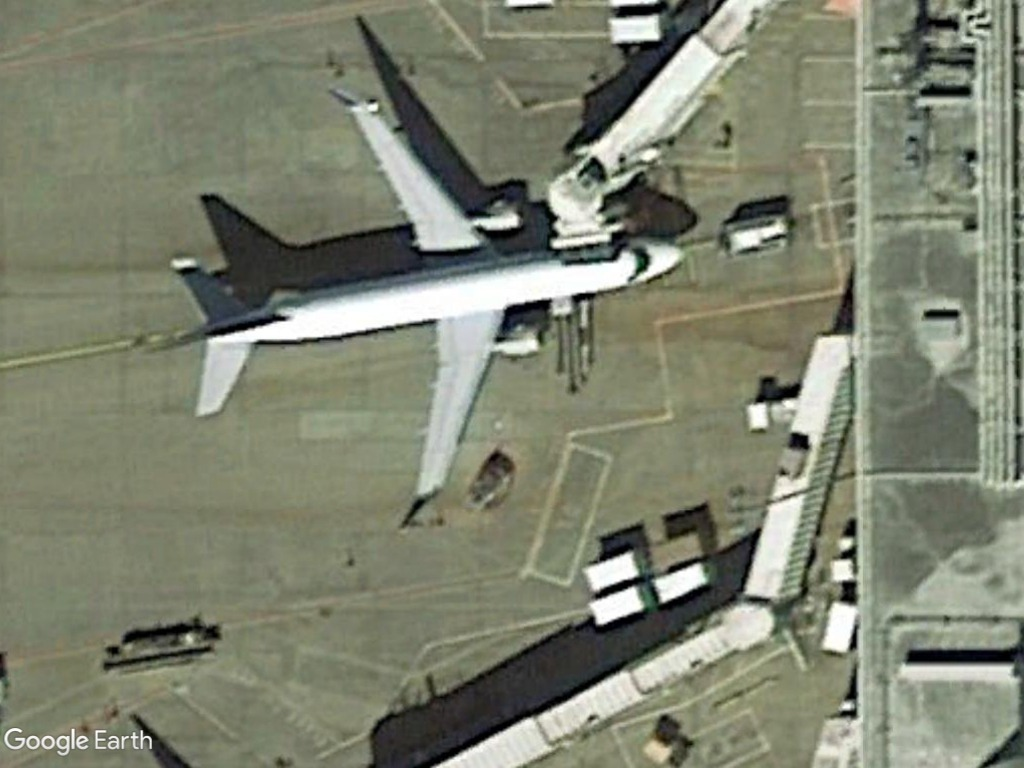airliner: (160, 84, 689, 523)
